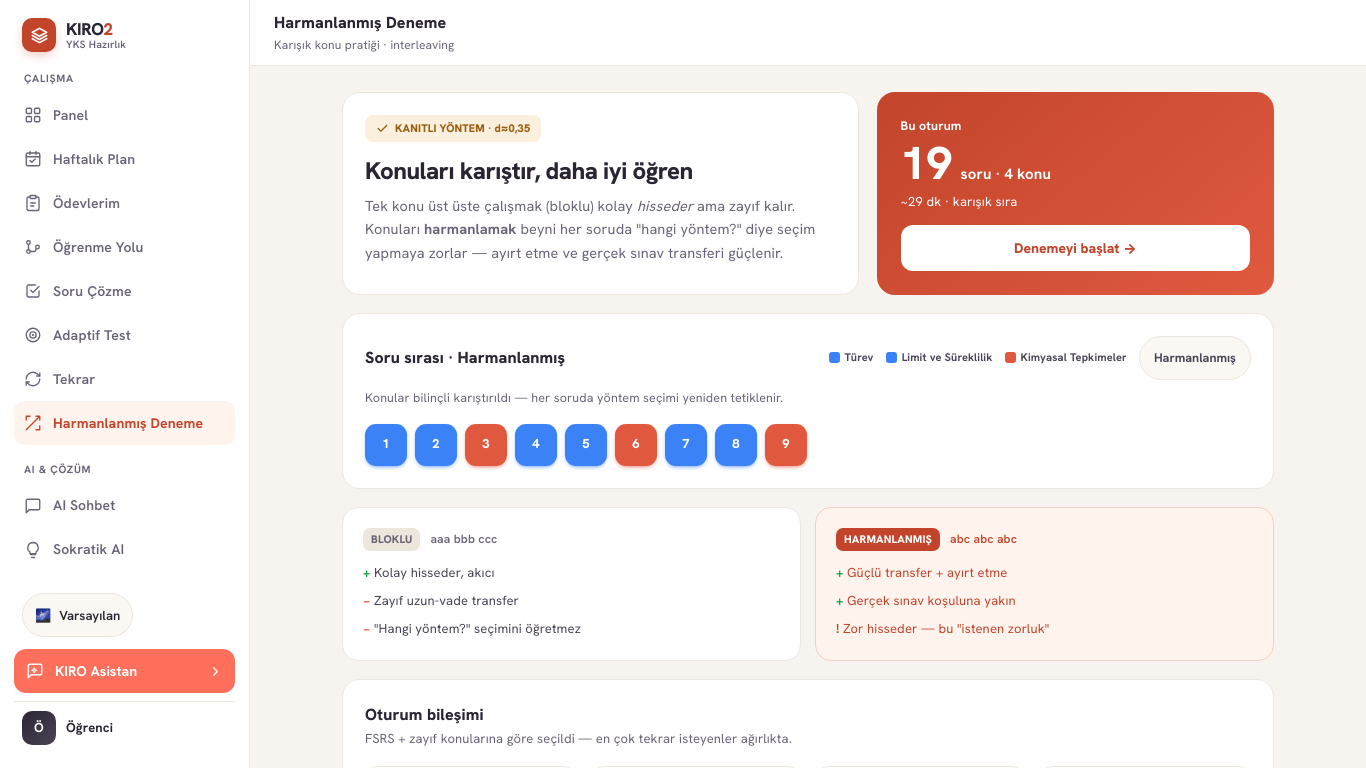
Test case: HarmanPage › harman/bloklu toggle sırayı değiştirir (üretimde kalır)
The image size is (1366, 768).
Expected: the heading "Konuları karıştır, daha iyi öğren" is shown, [365, 155, 693, 186]
Expected: the text "Soru sırası · Harmanlanmış" is shown, [365, 345, 565, 370]
Click the button "Harmanlanmış" at (1195,358), box [1139, 336, 1251, 380]
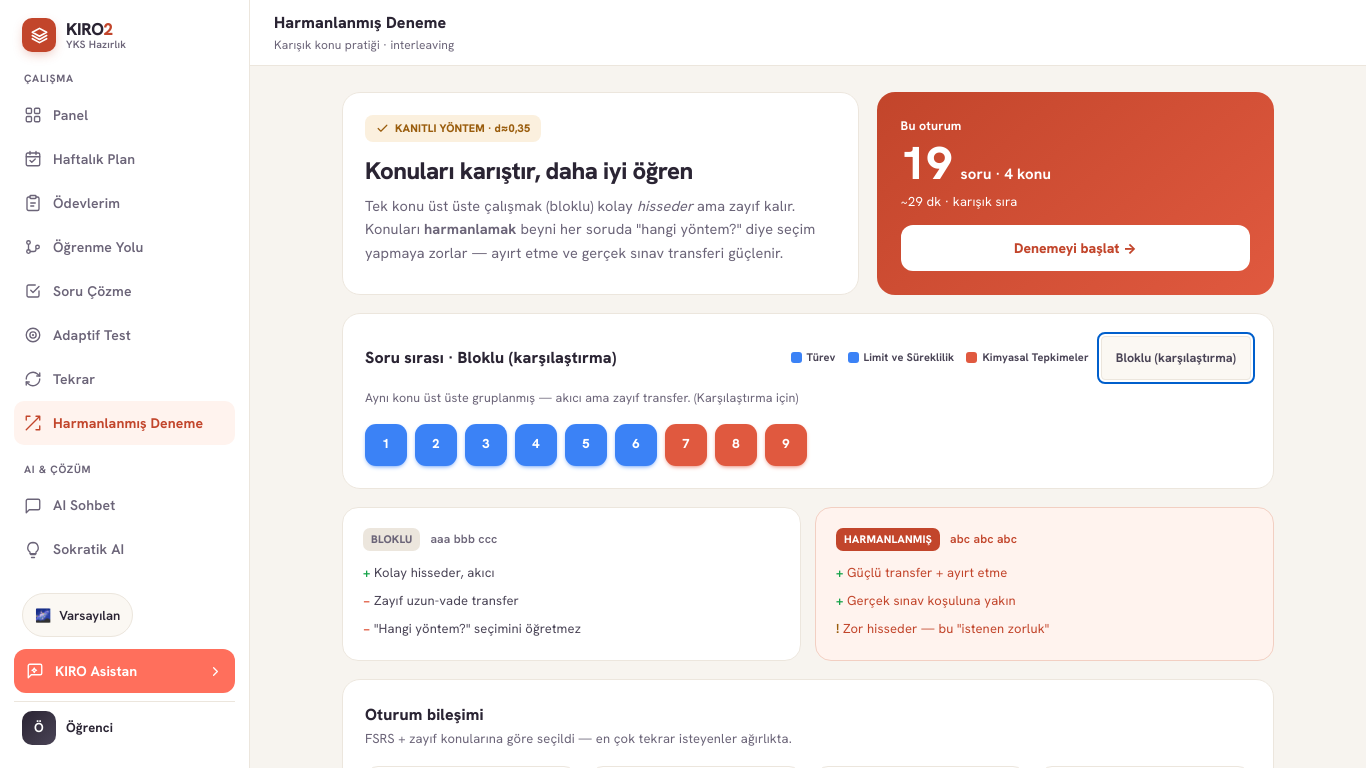
Result: the text "Soru sırası · Bloklu (karşılaştırma)" is shown at [365, 345, 617, 370]
